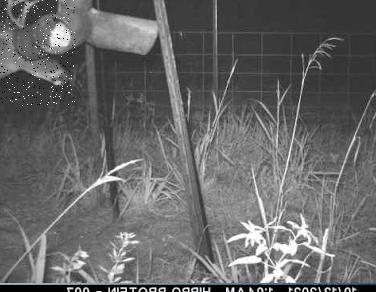Deer: (0, 0, 75, 106)
